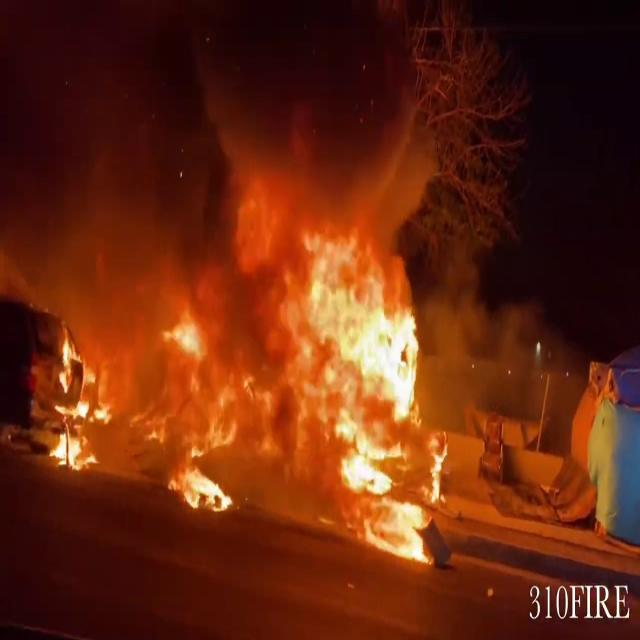Fire: (282, 216, 449, 565), (50, 324, 264, 508)
Smoke: (0, 0, 471, 311)
